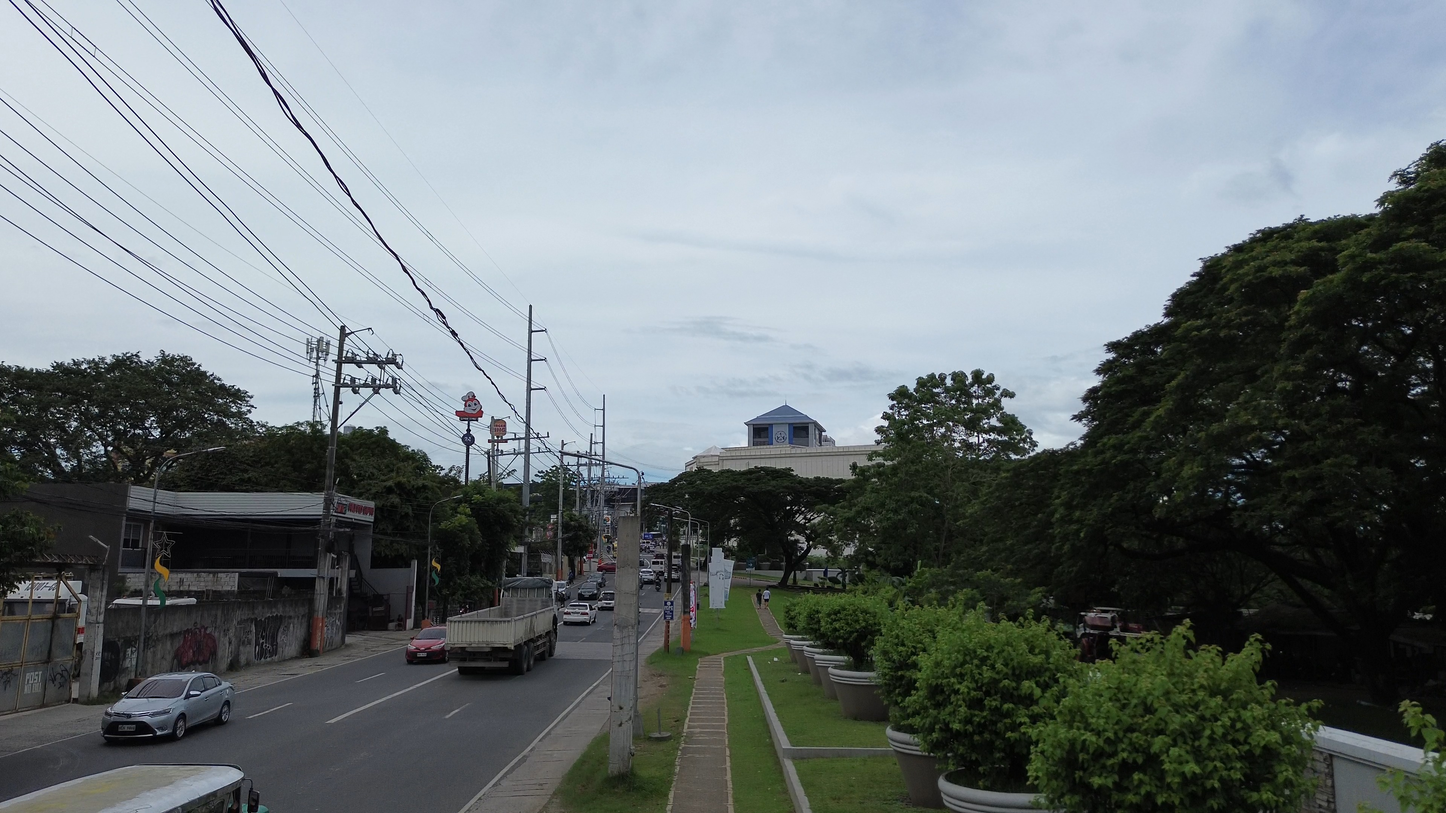car: (101, 672, 233, 741), (405, 626, 447, 663), (576, 582, 601, 601), (597, 561, 616, 572)
vehicle: (0, 764, 266, 813), (446, 577, 558, 674), (563, 601, 597, 624), (596, 590, 615, 610), (639, 568, 657, 585), (586, 573, 606, 588)
